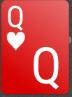Heart: (6, 32, 24, 50)
